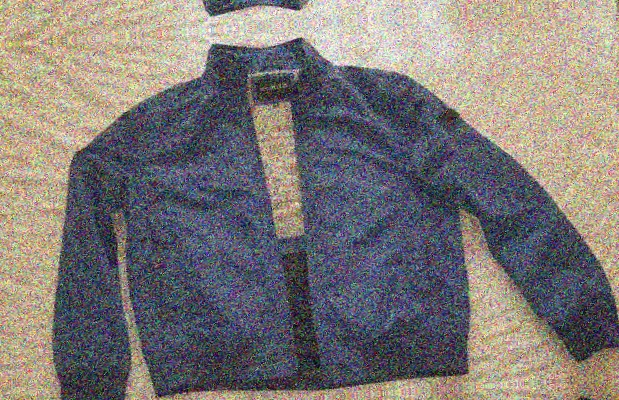Blazer: (13, 22, 619, 400), (0, 0, 602, 24), (39, 391, 619, 400)
